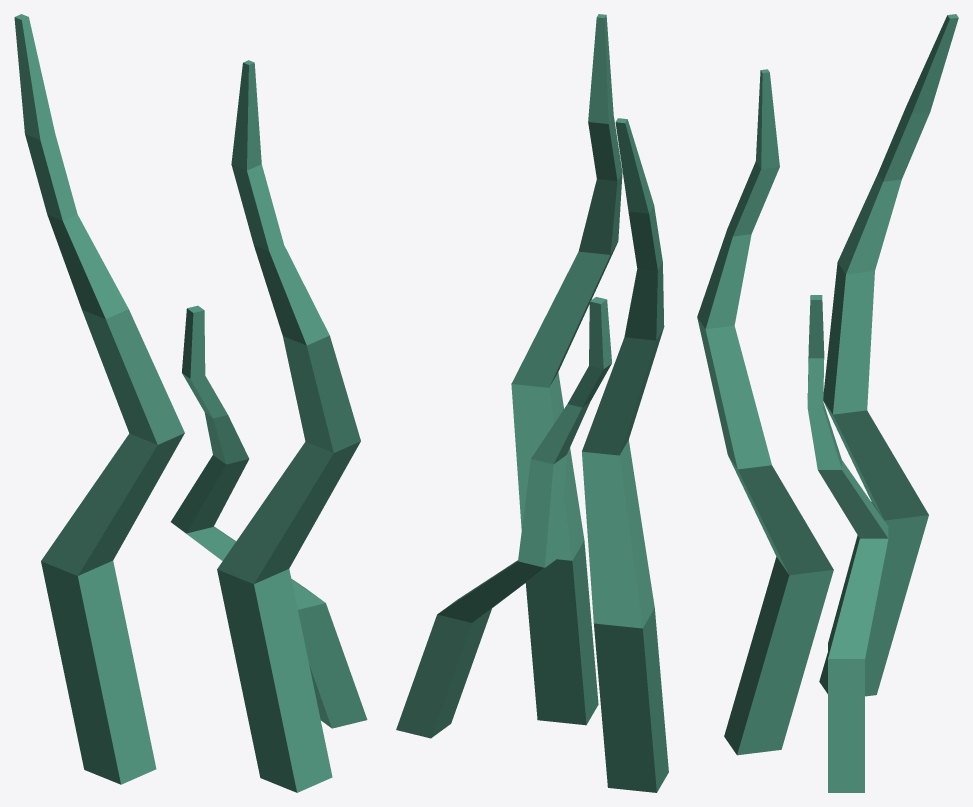
Rendered from AO_Plant08.fbx.
3 renders of one model, left to right at view 1: azimuth 30°, elevation 25°; view 2: azimuth 150°, elevation 25°; view 3: azimuth 270°, elevation 25°, orthographic. The views are drawn at different scales.
Parts seen in each view (by area): view 1: AO_Plant08; view 2: AO_Plant08; view 3: AO_Plant08.
Boxes of the visible parts, x1,y1,x2,y2 form: AO_Plant08: (14,14,367,792); AO_Plant08: (396,14,668,792); AO_Plant08: (697,14,958,792).
Size of the model in its own units: 22.39 by 53.27 by 19.32.
1 material, 1 textured.
